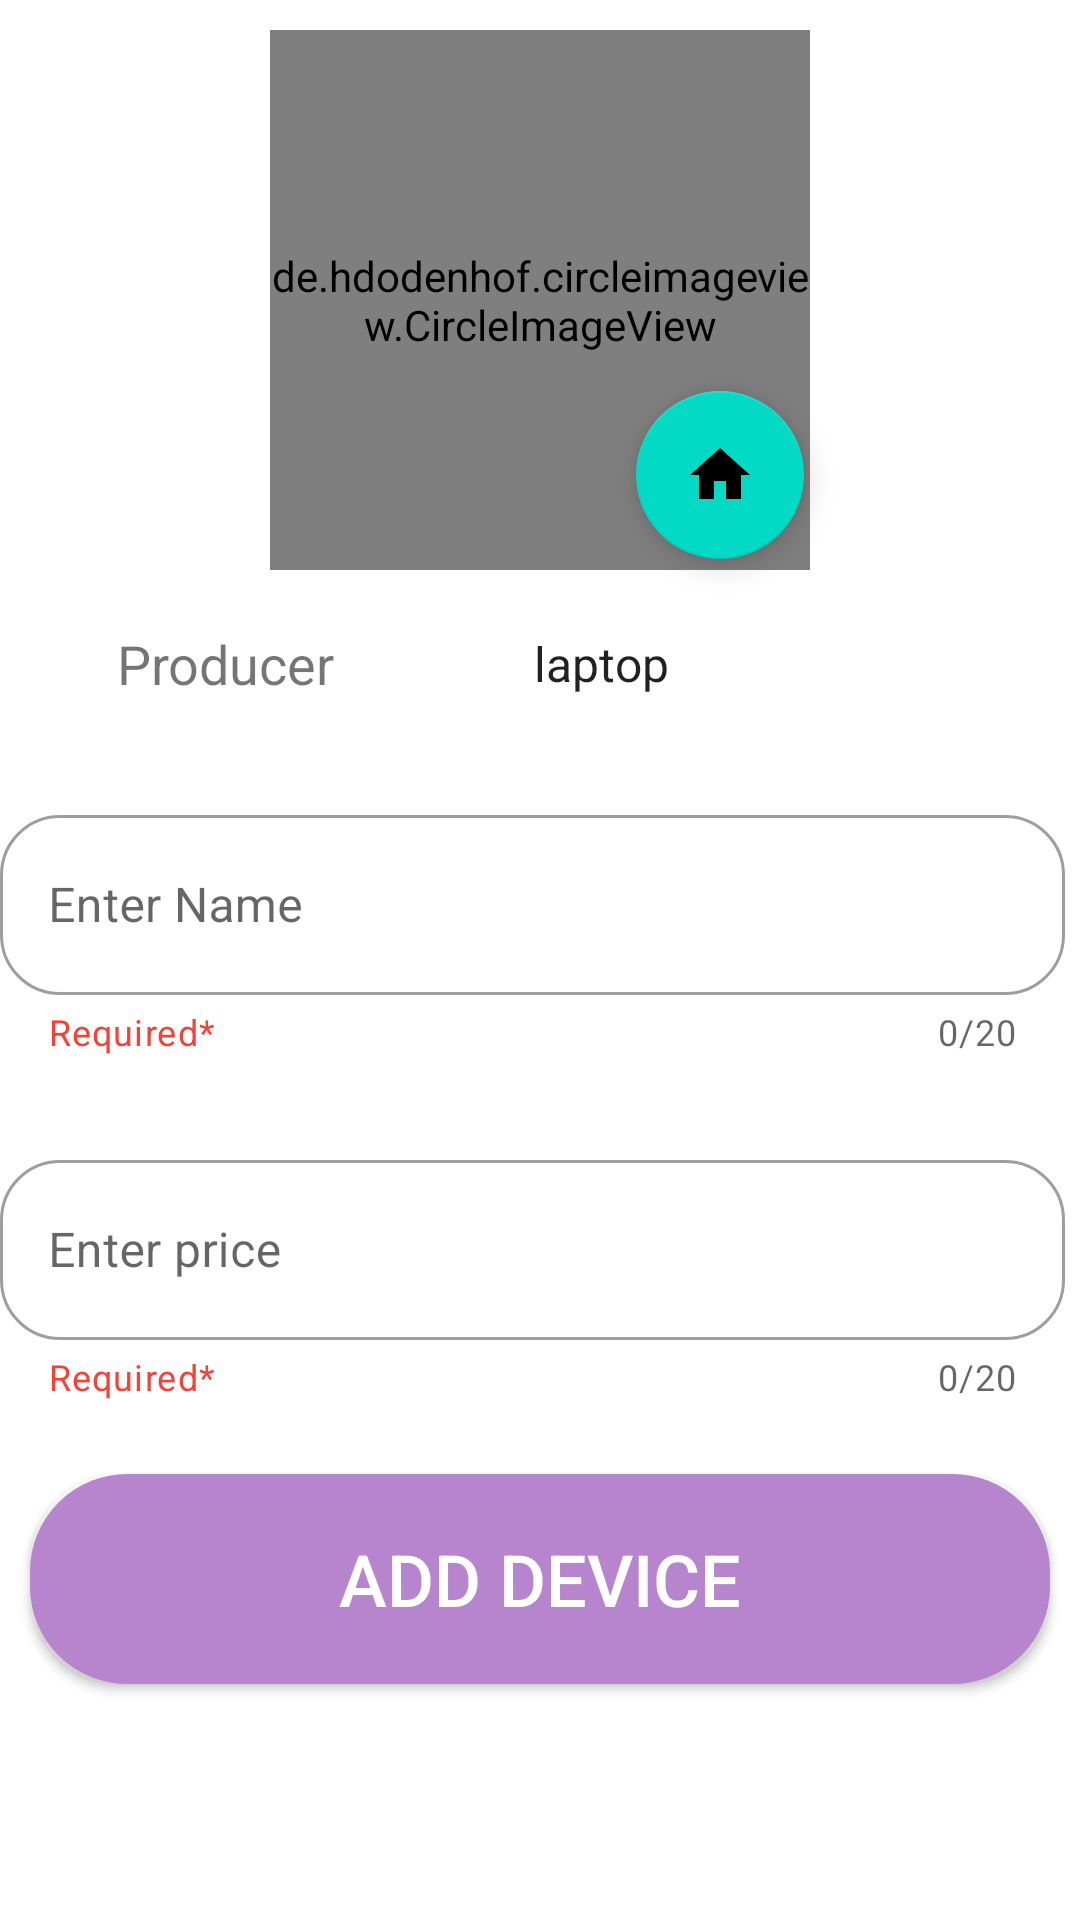

Icons on this 1080 x 1920 Android screen, each with the point to tap as (x=x, y=y):
home: (x=720, y=475)
